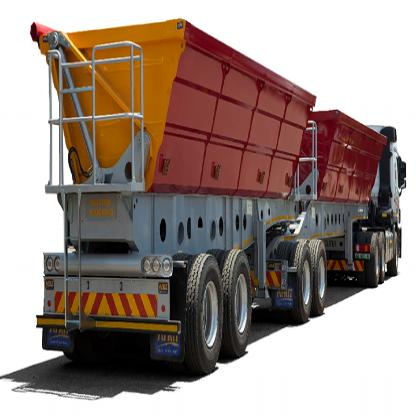dump_truck: (29, 11, 405, 379)
